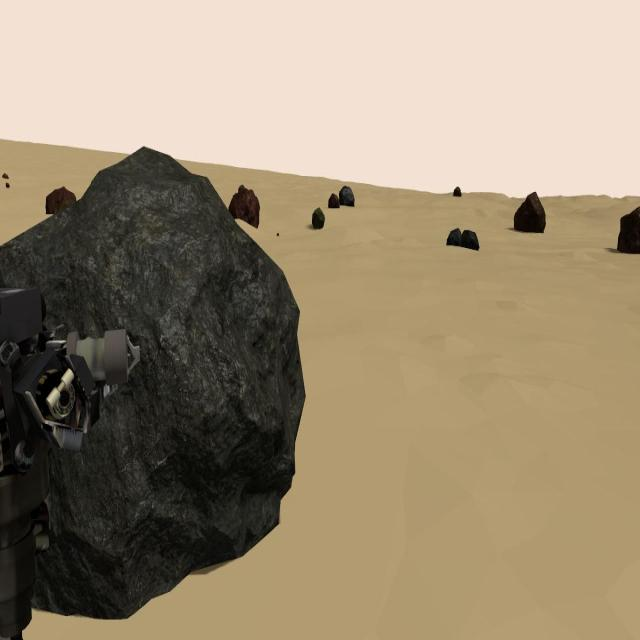rock: (1, 145, 305, 620), (229, 183, 260, 230), (514, 190, 546, 233), (617, 207, 640, 252), (46, 187, 76, 213), (460, 230, 479, 250), (338, 185, 354, 208), (312, 207, 325, 230), (446, 228, 461, 246), (328, 192, 338, 208), (453, 186, 461, 197), (2, 172, 9, 178), (6, 183, 10, 190)
